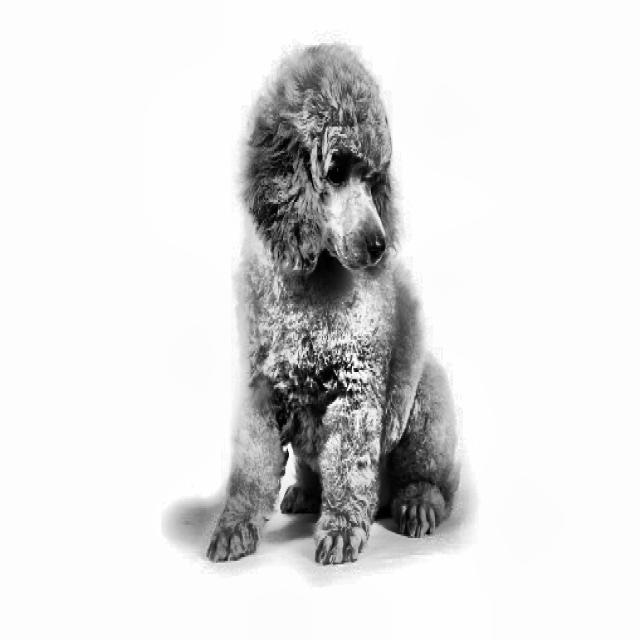poodle: (221, 21, 424, 308)
